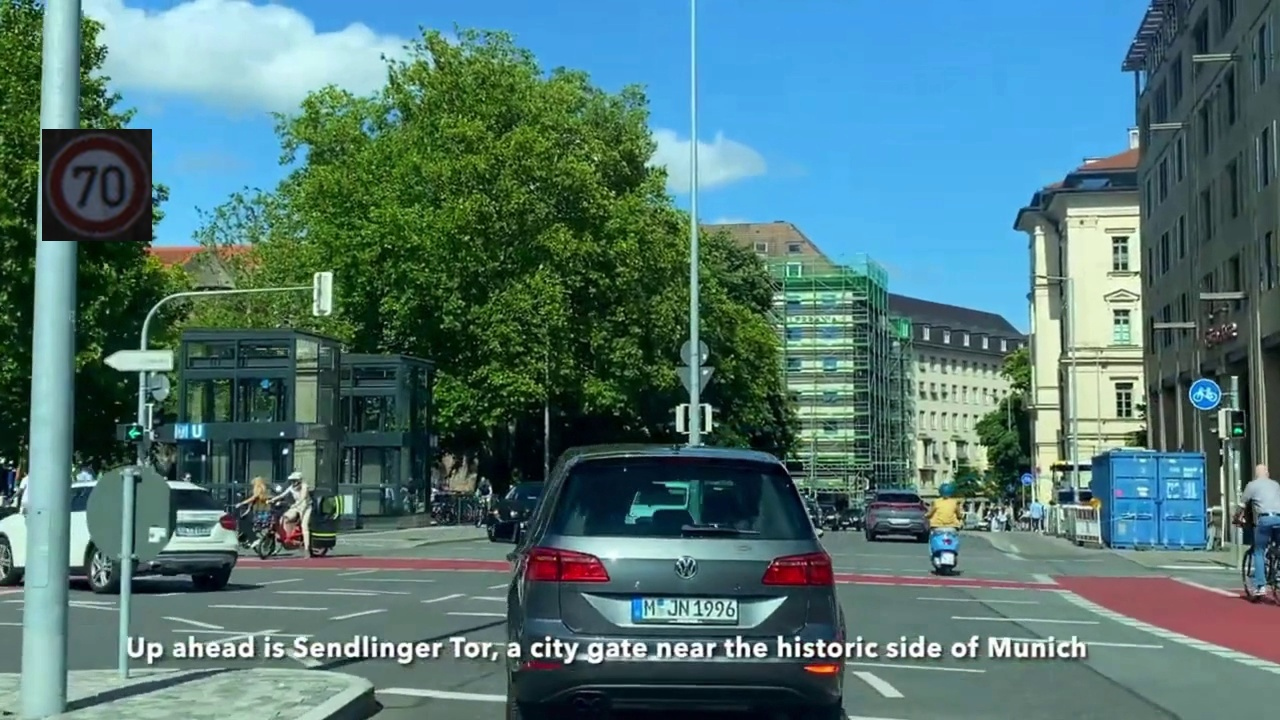Speed 70: (42, 129, 152, 241)
